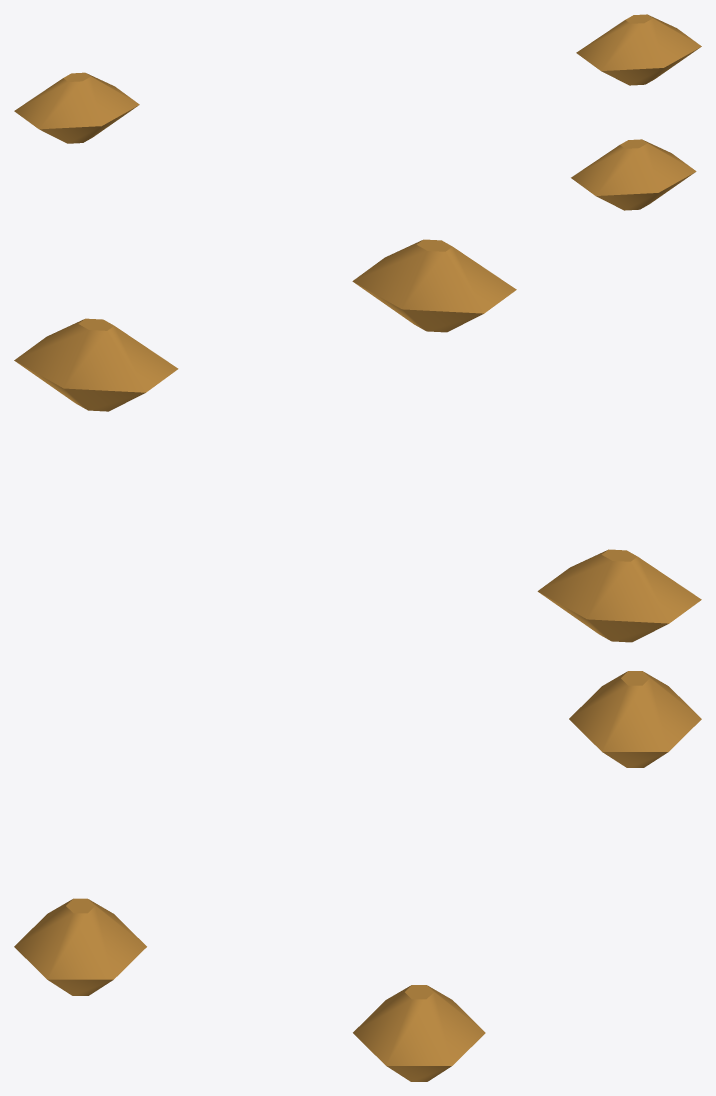
File: crop_wheat_seeded.glb
3 renders of one model, top to bottom at view 1: azimuth 30°, elevation 25°; view 2: azimuth 150°, elevation 25°; view 3: azimuth 270°, elevation 25°, orthographic. The views are drawn at different scales.
Parts seen in each view (by area): view 1: crop_wheat_seeded_seed_0; view 2: crop_wheat_seeded_seed_0; view 3: crop_wheat_seeded_seed_0.
Boxes of the visible parts, left/top/right/bottom form: crop_wheat_seeded_seed_0: left=14, top=14, right=701, bottom=210; crop_wheat_seeded_seed_0: left=14, top=239, right=701, bottom=642; crop_wheat_seeded_seed_0: left=14, top=671, right=701, bottom=1081.
Bounding box in the file's own units: 0.2196 × 0.022 × 0.1681.
